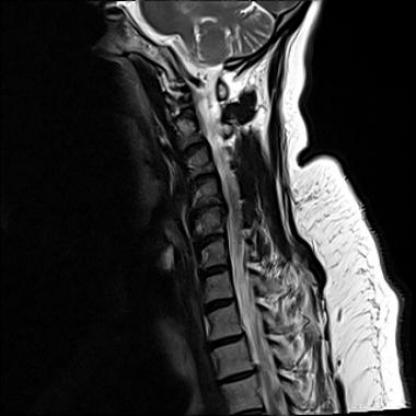Disc Bulgerotation: (186, 201, 227, 214), (186, 172, 221, 187), (180, 141, 207, 154)
Disc Protrusionrotation: (186, 201, 227, 214)
